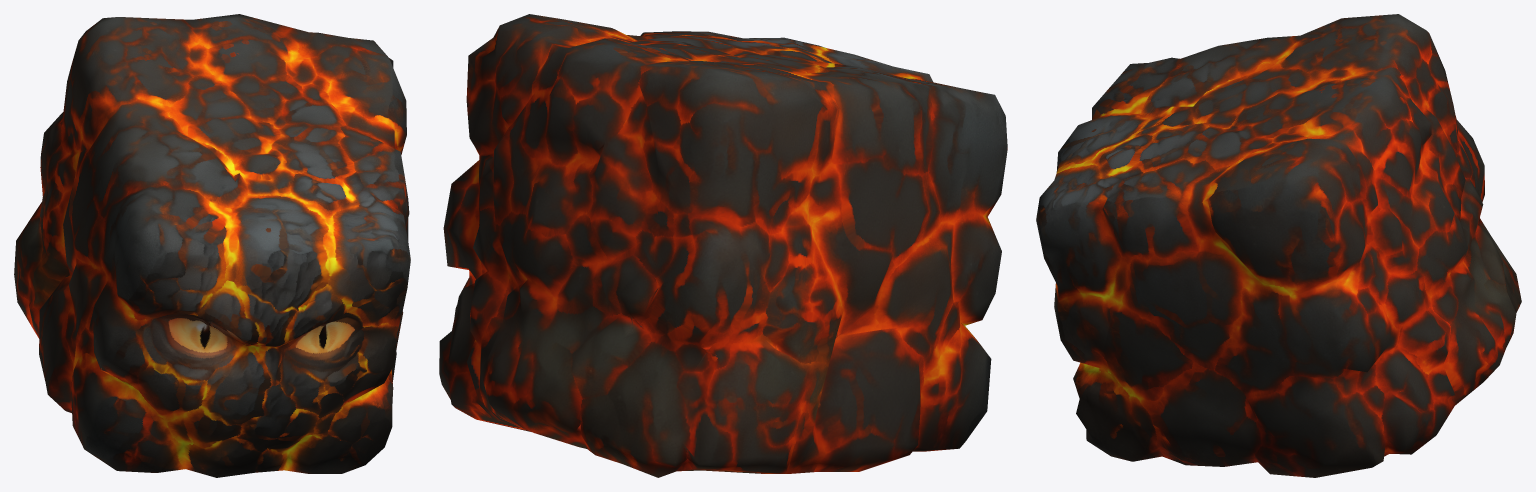
The model's file is magma_cube_single_1500.glb.
3 renders of one model, left to right at view 1: azimuth 30°, elevation 25°; view 2: azimuth 150°, elevation 25°; view 3: azimuth 270°, elevation 25°, orthographic. The views are drawn at different scales.
Bounding box in the file's own units: 0.863 × 0.8438 × 0.9681.
1 material, 1 textured.
